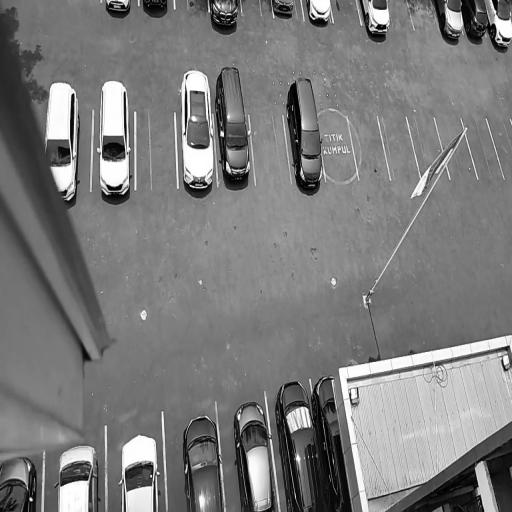Car: (270, 380, 322, 512), (208, 56, 256, 196), (310, 377, 356, 512), (176, 60, 218, 204), (224, 397, 276, 512), (282, 68, 325, 192), (44, 80, 84, 204), (96, 74, 134, 202), (115, 421, 163, 512), (179, 411, 221, 512), (52, 436, 101, 512), (0, 455, 41, 512), (360, 0, 396, 41), (486, 0, 512, 44), (433, 0, 464, 36), (462, 0, 488, 39), (206, 0, 241, 28), (304, 0, 334, 25), (99, 0, 134, 19), (138, 0, 169, 18), (270, 0, 296, 15)
Space Available: (135, 109, 178, 187), (249, 113, 292, 184), (434, 115, 478, 180), (348, 115, 391, 180), (378, 115, 420, 181), (407, 116, 450, 179), (462, 117, 504, 181), (319, 117, 359, 182), (487, 116, 512, 179), (407, 0, 440, 32), (388, 0, 414, 28), (332, 0, 363, 23), (242, 0, 274, 16), (175, 0, 209, 13)
